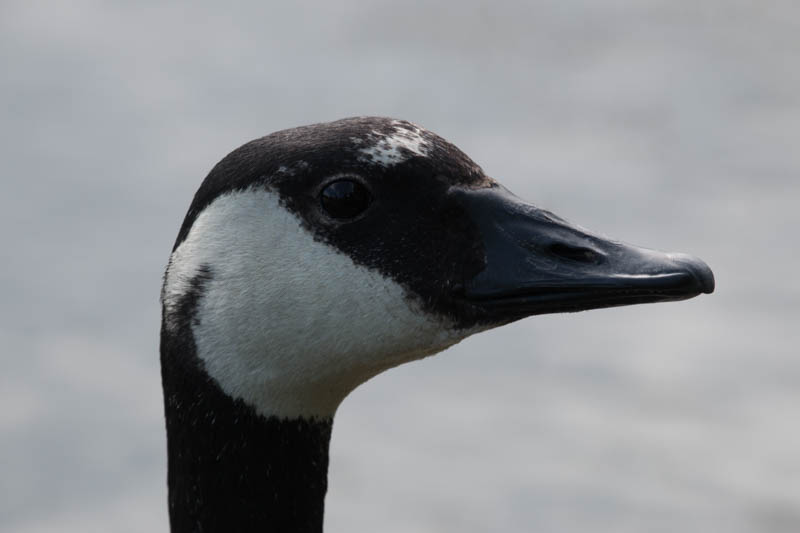goose-head: (159, 117, 716, 420)
